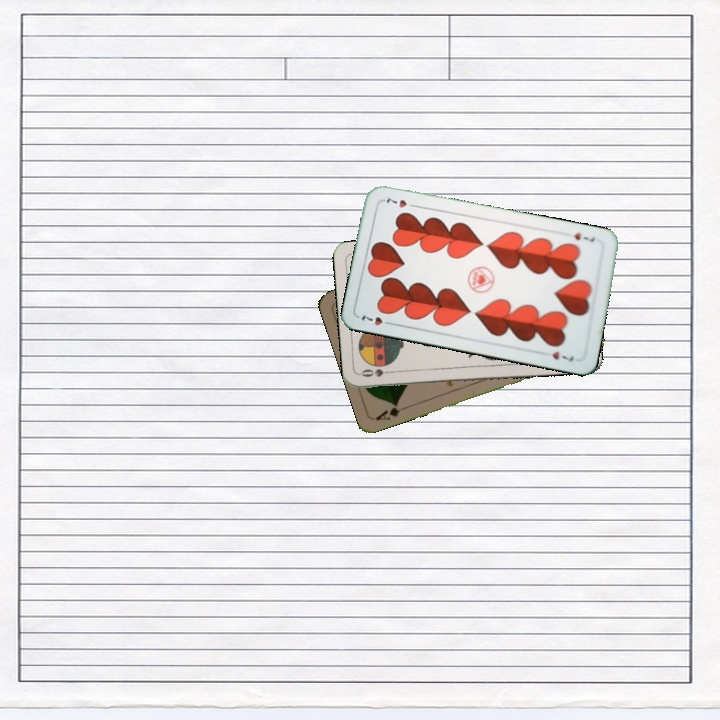GA: (372, 399, 411, 423)
H7: (357, 311, 396, 328), (570, 228, 597, 245)
SO: (357, 365, 398, 379)
